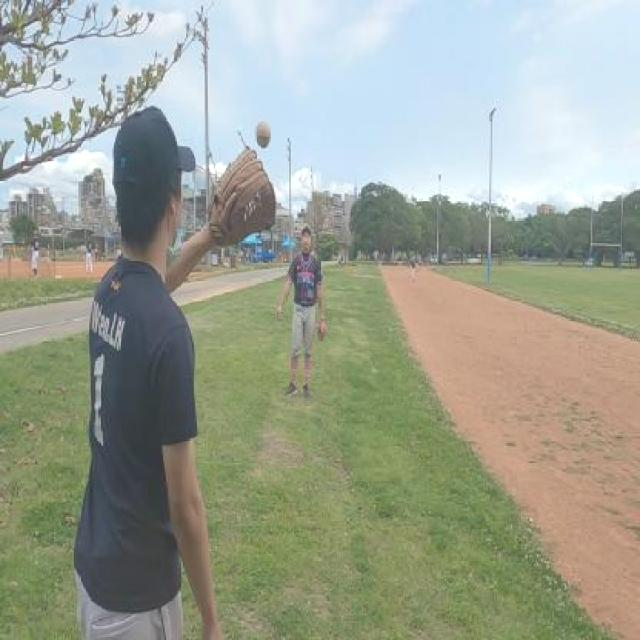ball: (253, 120, 275, 148)
